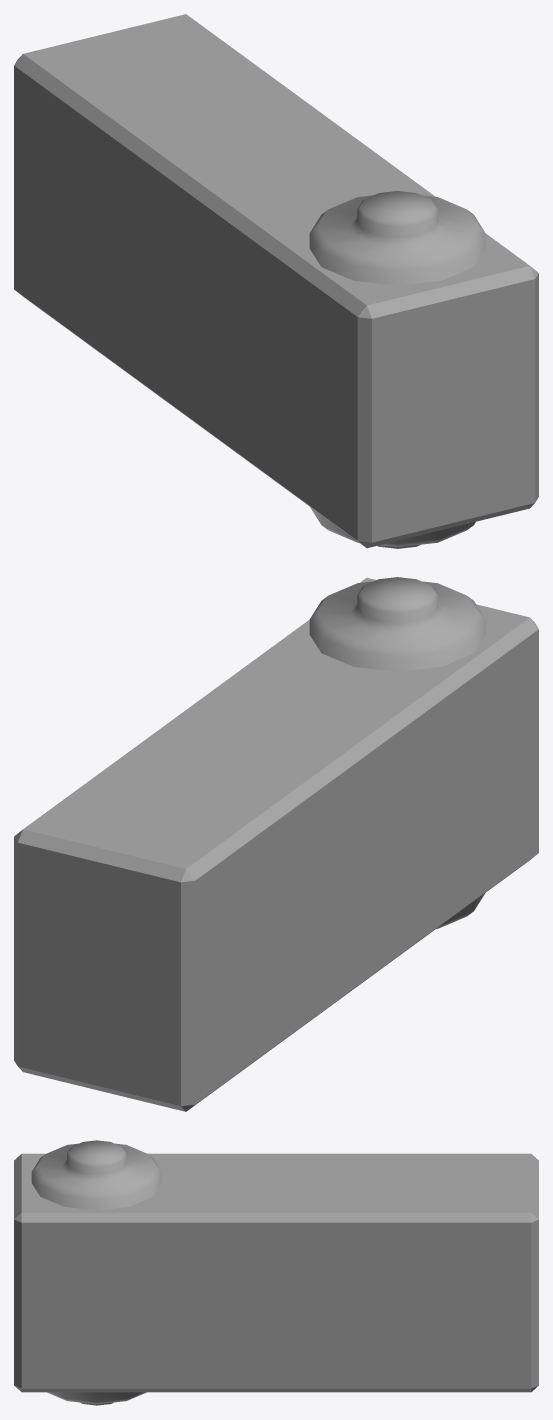
File: MeshDoorwayDoor_9_2_GeomSubset_1.obj
3 renders of one model, top to bottom at view 1: azimuth 30°, elevation 25°; view 2: azimuth 150°, elevation 25°; view 3: azimuth 270°, elevation 25°, orthographic. The views are drawn at different scales.
Visible parts, largest first — view 1: MeshDoorwayDoor_9_2_GeomSubset_1; view 2: MeshDoorwayDoor_9_2_GeomSubset_1; view 3: MeshDoorwayDoor_9_2_GeomSubset_1.
Boxes of the visible parts, x1,y1,x2,y2 form: MeshDoorwayDoor_9_2_GeomSubset_1: (14, 14, 538, 548); MeshDoorwayDoor_9_2_GeomSubset_1: (14, 577, 538, 1111); MeshDoorwayDoor_9_2_GeomSubset_1: (14, 1140, 538, 1405).
Size of the model in its own units: 0.0822 by 0.1416 by 0.2785.
